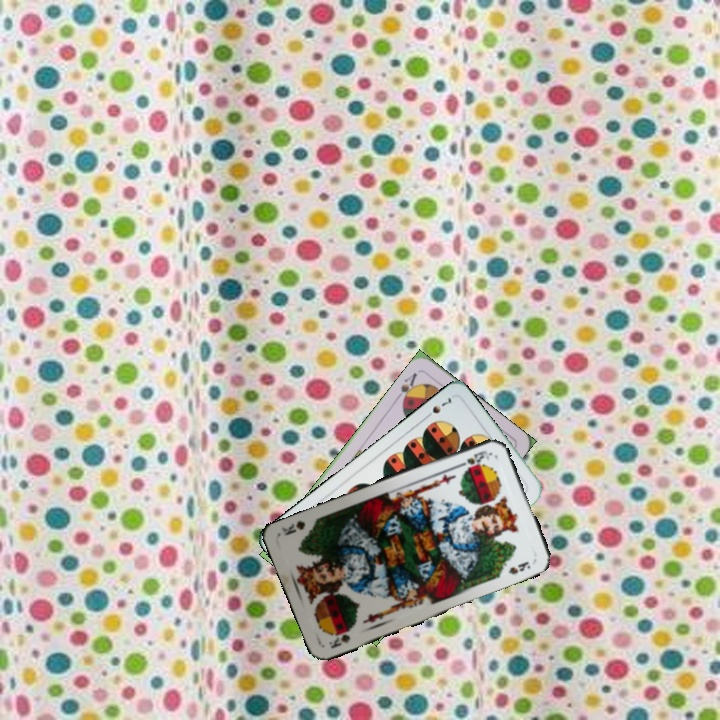S7: (420, 393, 454, 422)
SA: (392, 368, 421, 406)
SK: (453, 446, 493, 470), (325, 625, 353, 651)
